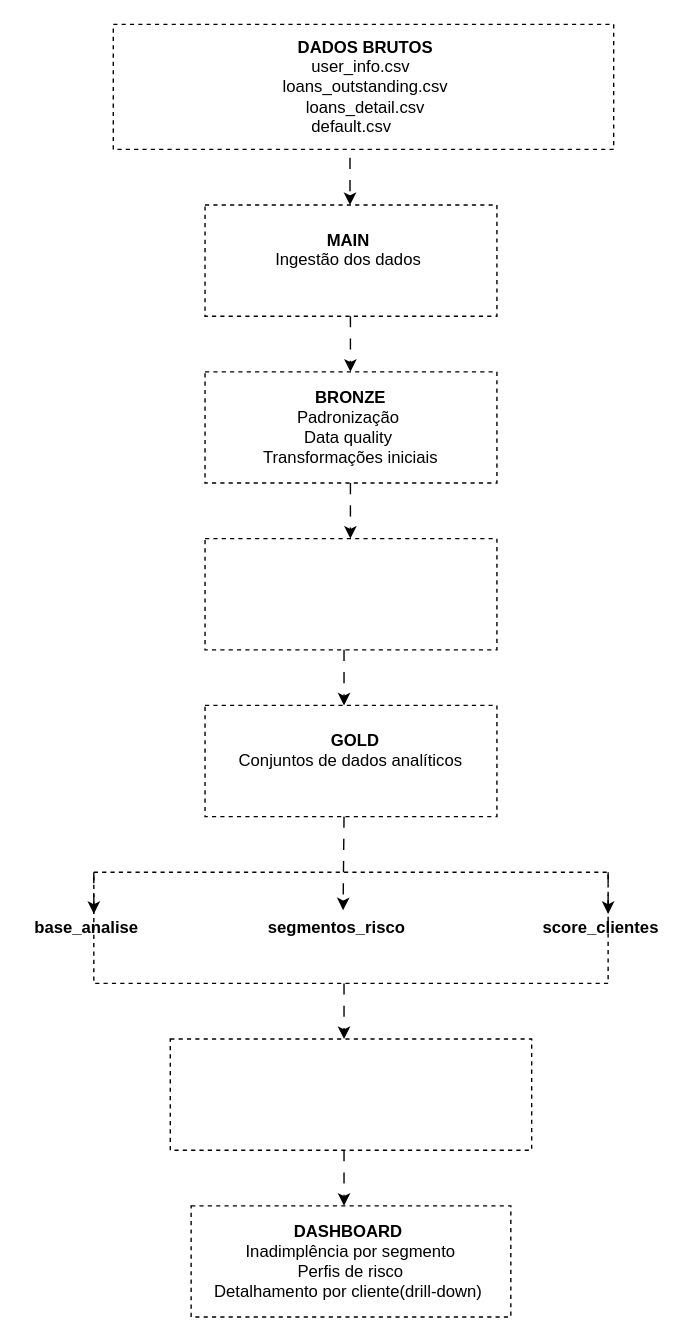
Image size: 694x1341. Some labels were removed from this diagram. The shapes that lost their labels are listed below. From the top down, each one's centre as x and y in pixels, then its label:
At pixel 350 593: "SILVER Modelagem analítica Feature engineering".
At pixel 350 1094: "PARQUET Dados prontos para análise e visualização".
